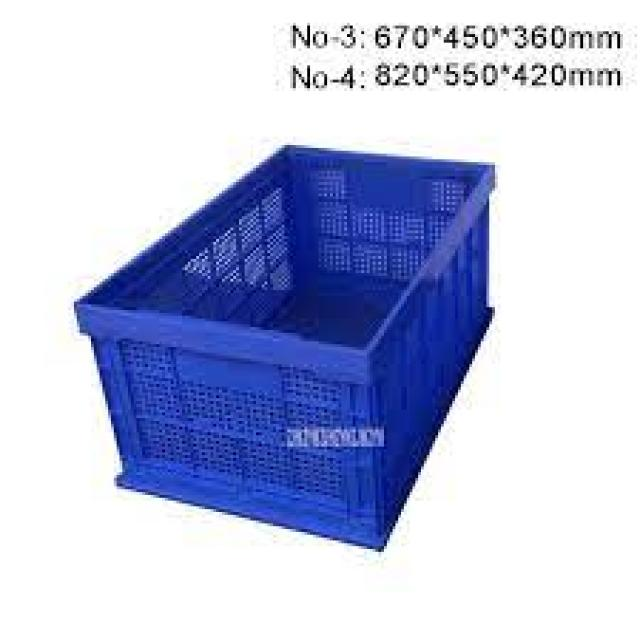basket: (58, 131, 506, 555)
